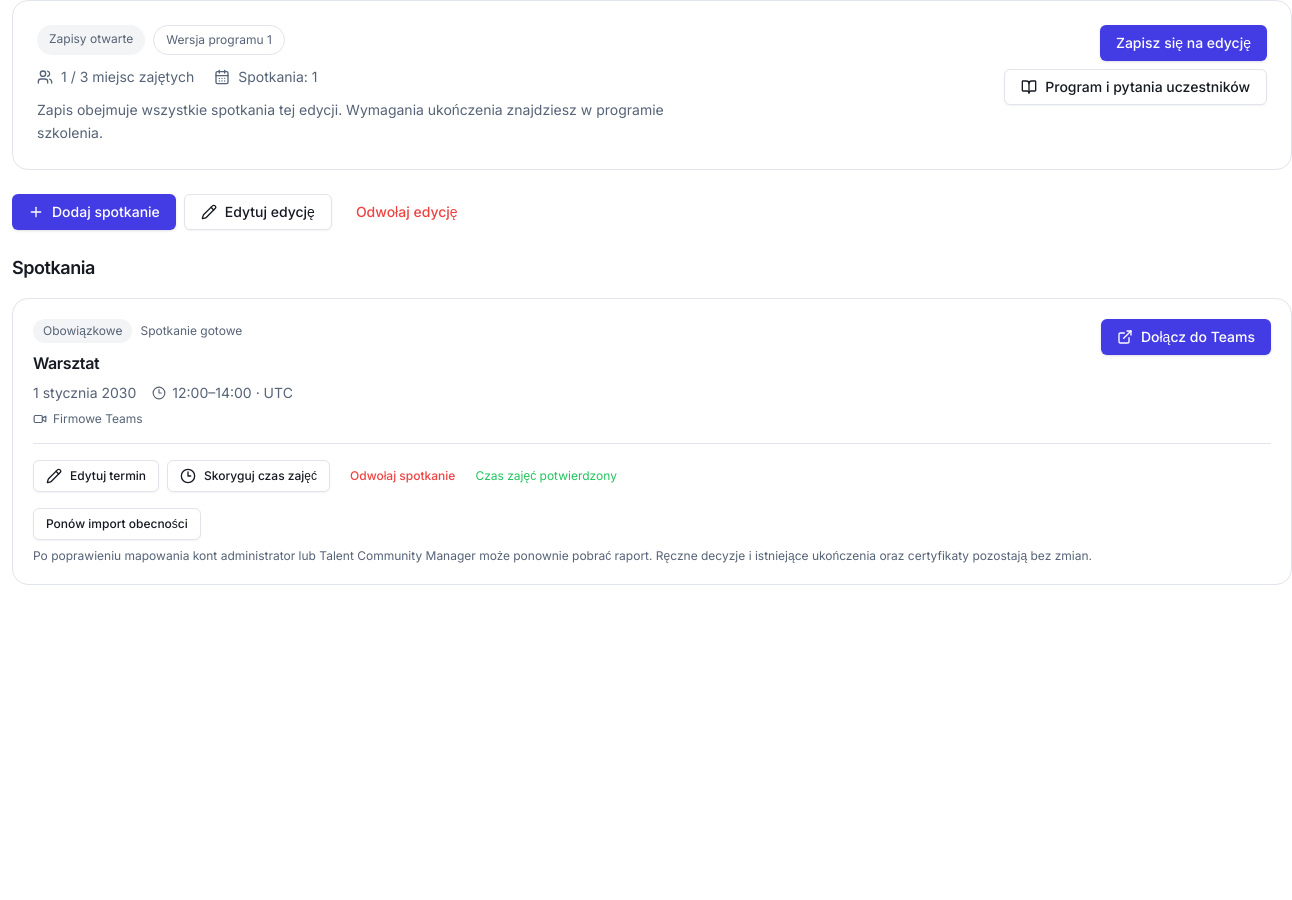
Test case: Attendance recovery controls › uses the actual end and administrator role even when the administrator cannot approve their own run
Expected: the text "Ręczne decyzje i istniejące ukończenia oraz certyfikaty pozostają bez zmian" is shown, top-left (33, 548), bottom-right (1092, 562)
Step 1. Click the button "Ponów import obecności" → x=117, y=524, box top-left (33, 508), bottom-right (201, 540)
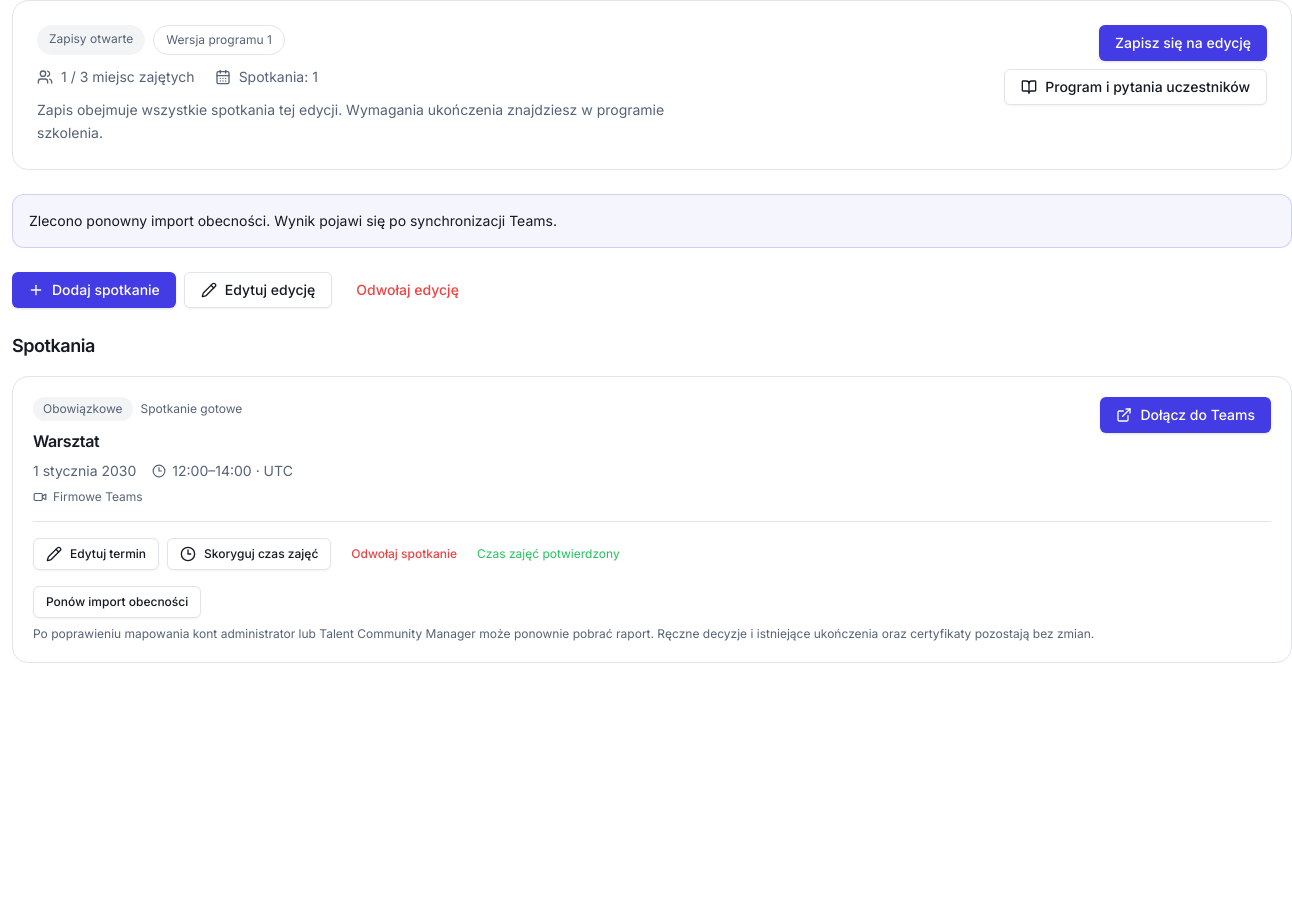
Expected: the message shows "Zlecono ponowny import obecności", top-left (29, 212), bottom-right (557, 228)
